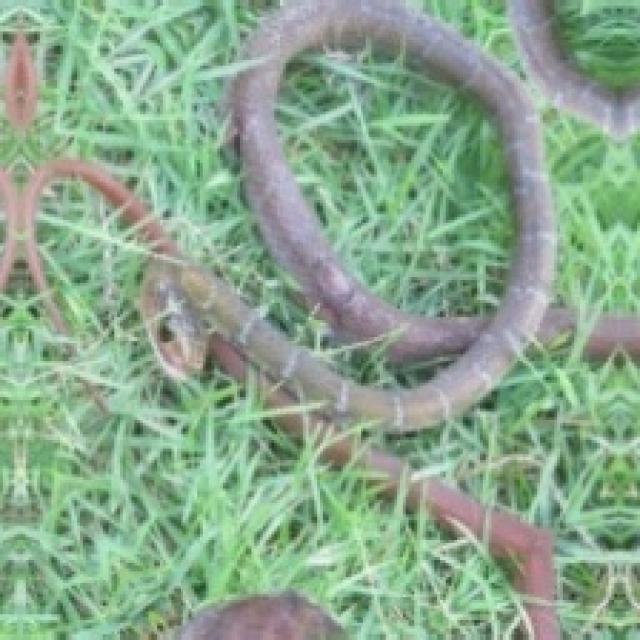reddish rat snake: (0, 0, 640, 639), (511, 2, 640, 137)
